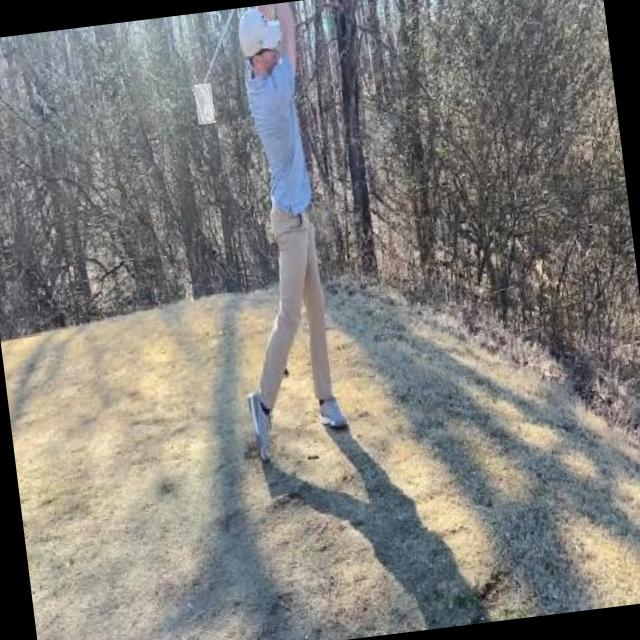club head: (193, 82, 216, 124)
